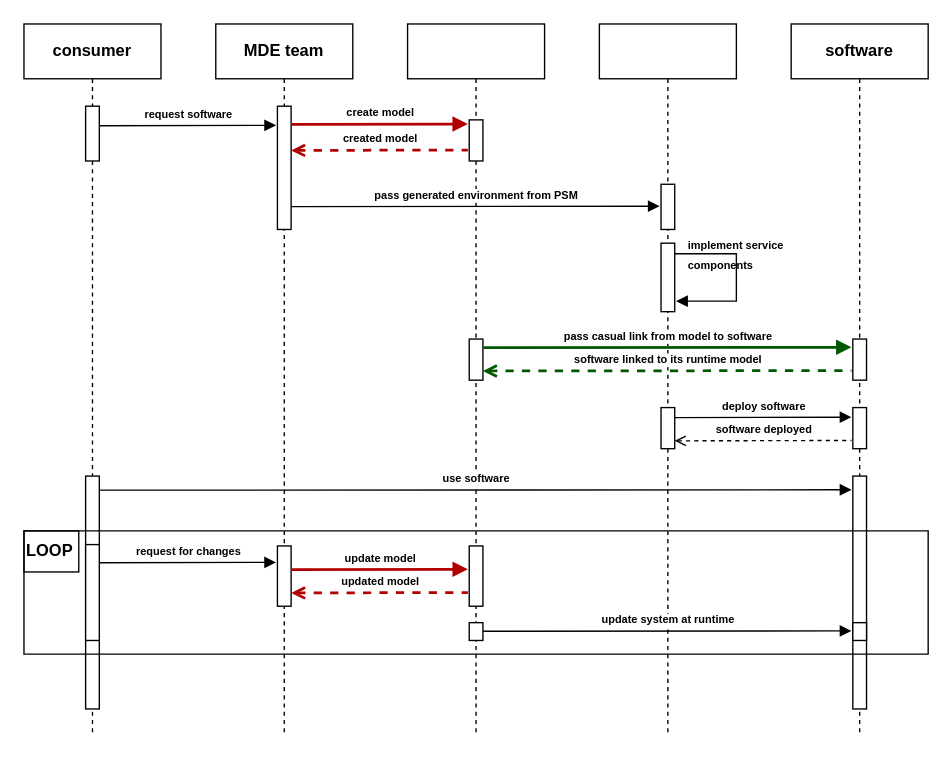
This 952x760 diagram has some shape labels left out. Each missing label, with the centre of its shape:
engineering team: [667,379]
models@runtime: [475,379]
